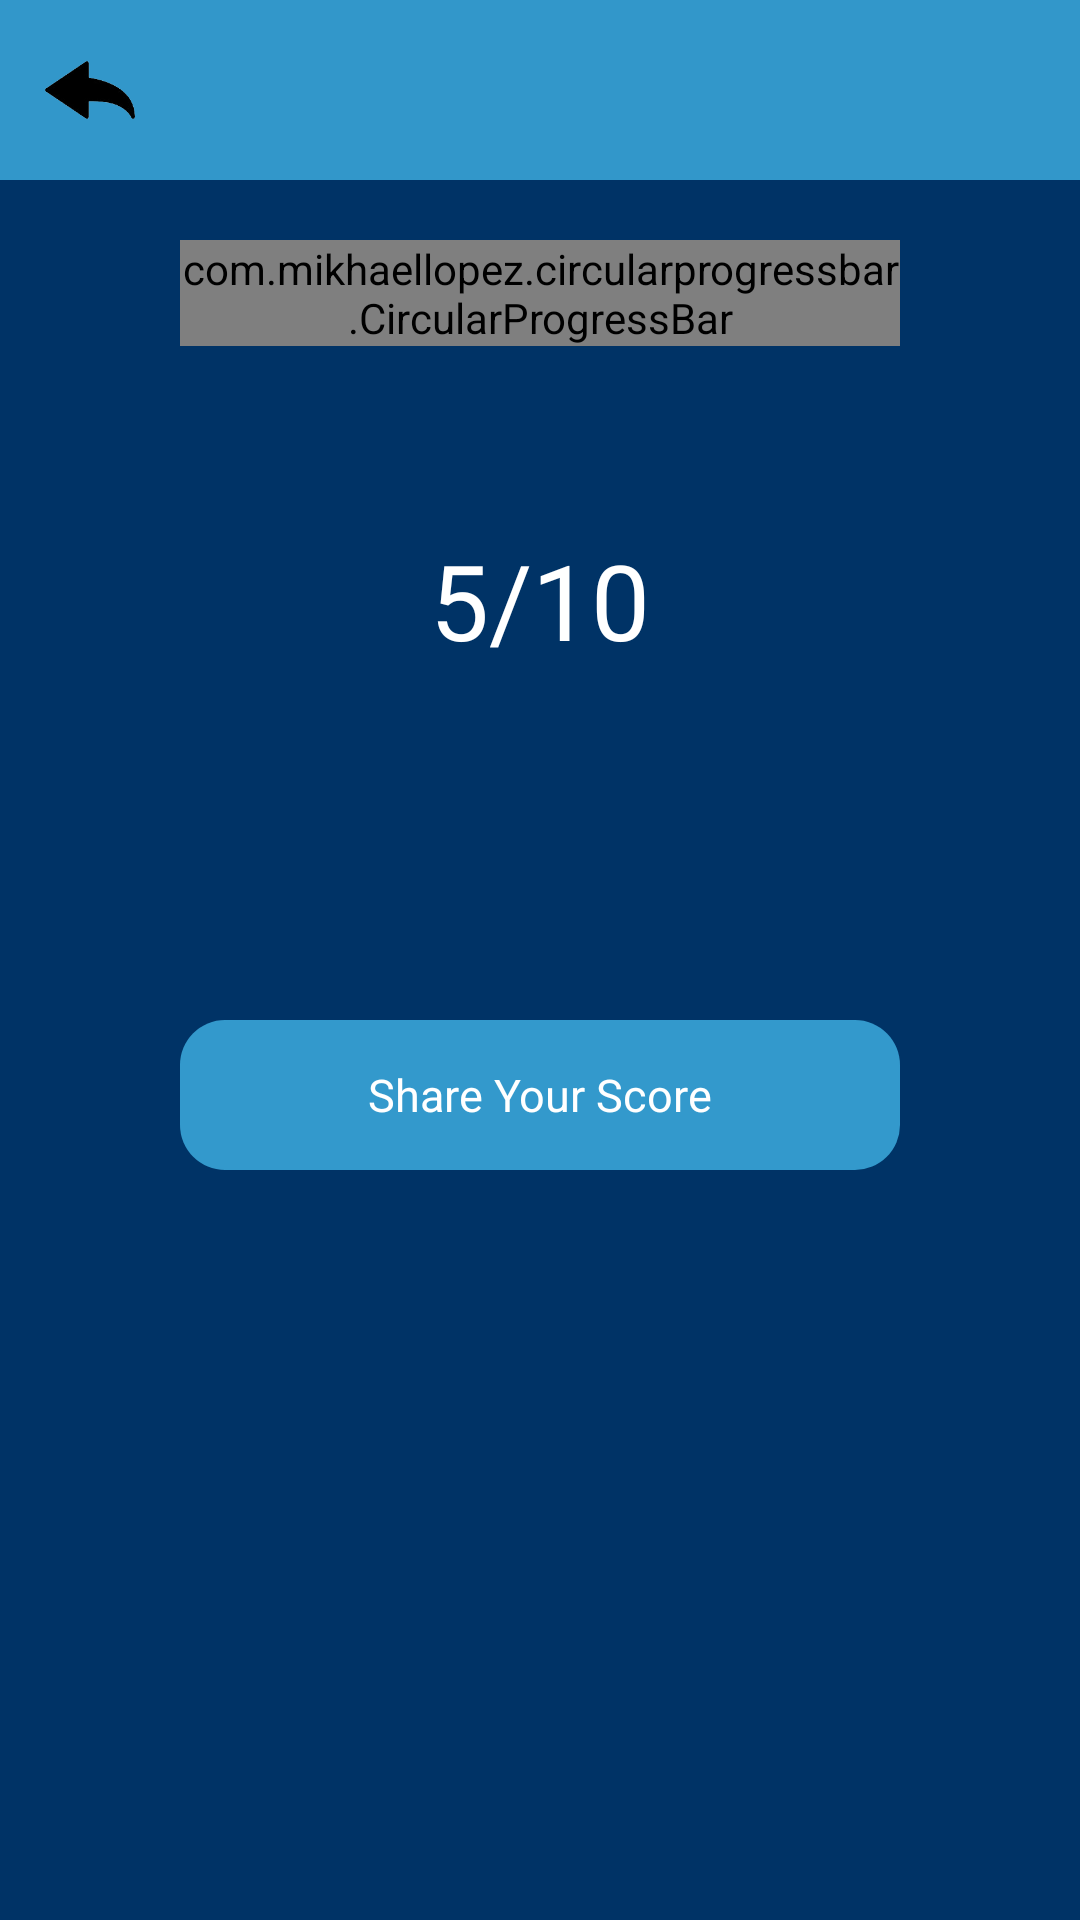

Where to tap for icons on this 1080 × 1920 app screen, as point (x, y):
icbackmain: point (90, 90)
